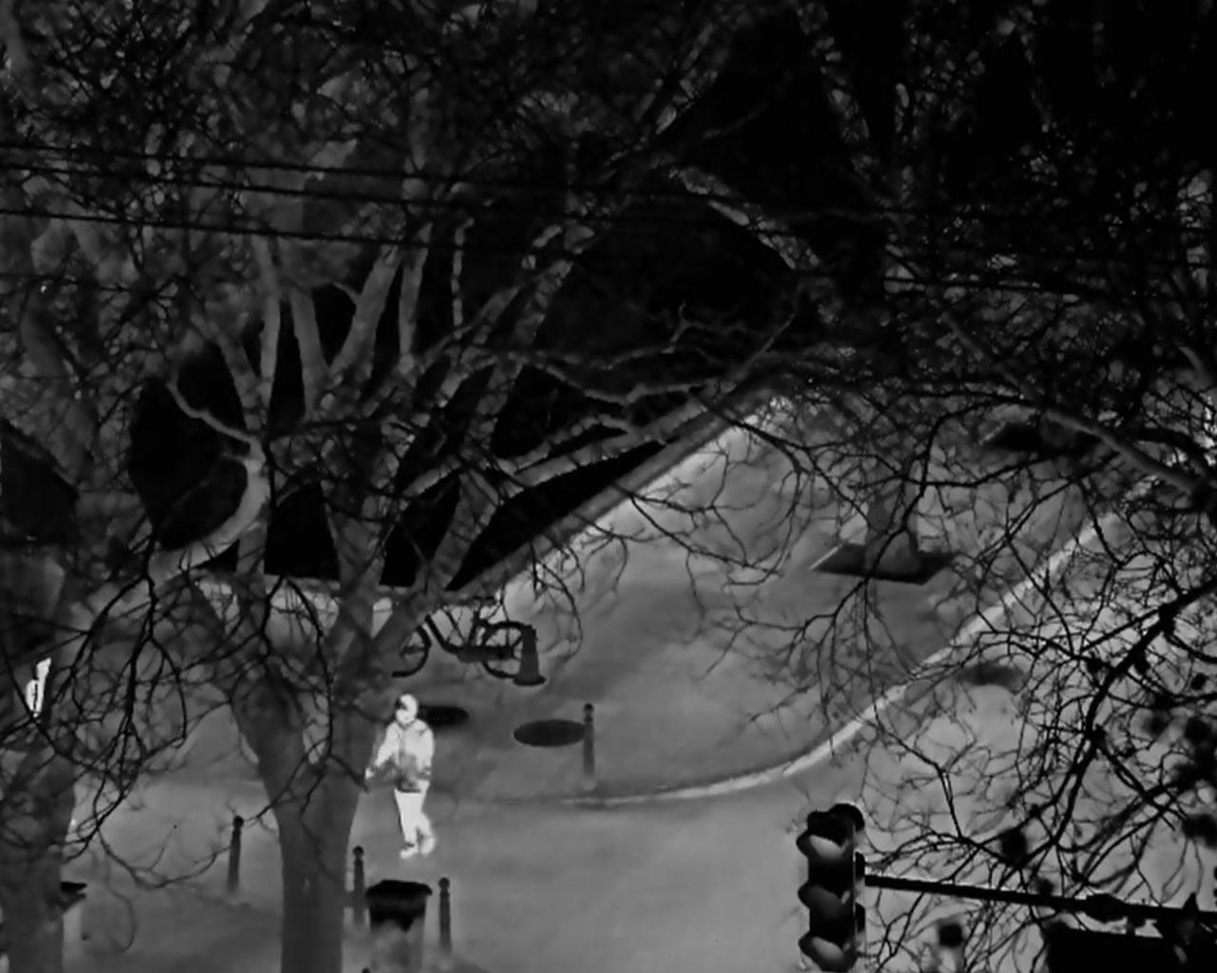person: (368, 694, 439, 858)
